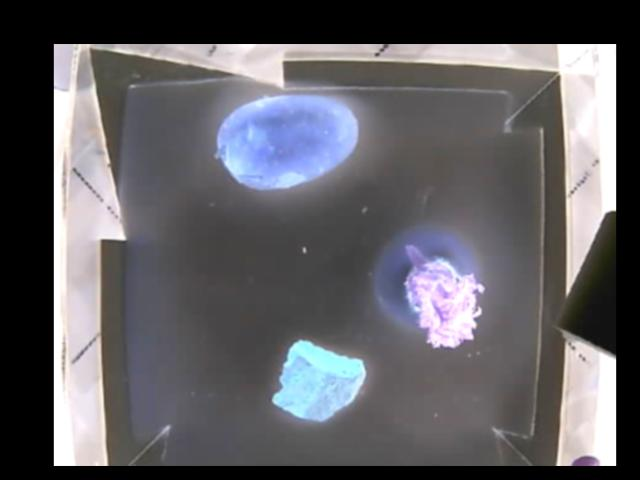Brisk: (268, 342, 366, 421)
Mooli: (372, 228, 480, 346)
Potato: (217, 93, 358, 189)
